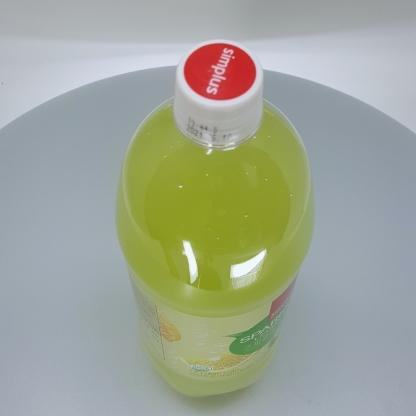----------------: (115, 39, 315, 398)
